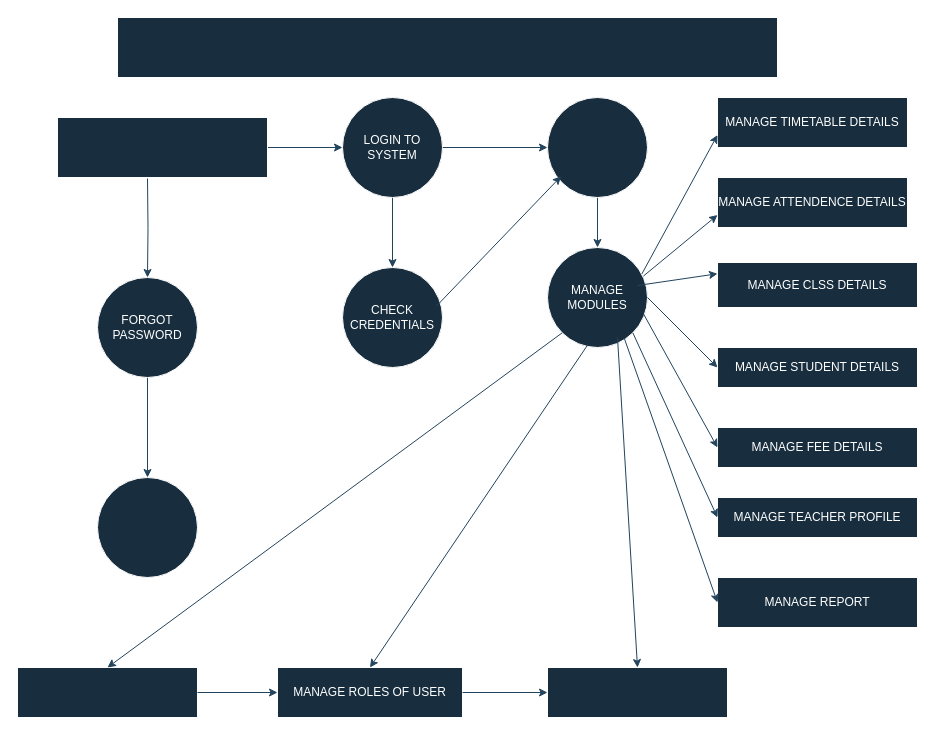
Image size: 935x735. Some labels were removed from this diagram. The centre of each missing label's shape, as x and y in pixels:
ADMIN: point (162, 147)
CHECK ROLES OF ACCESS: point (597, 147)
MANAGE SYSTEM ADMINS: point (107, 692)
MANAGE USER PERMISSION: point (637, 692)
SEND EMAIL TO USER: point (147, 527)
STUDENT INFORMATION SYSTEM: point (447, 47)
